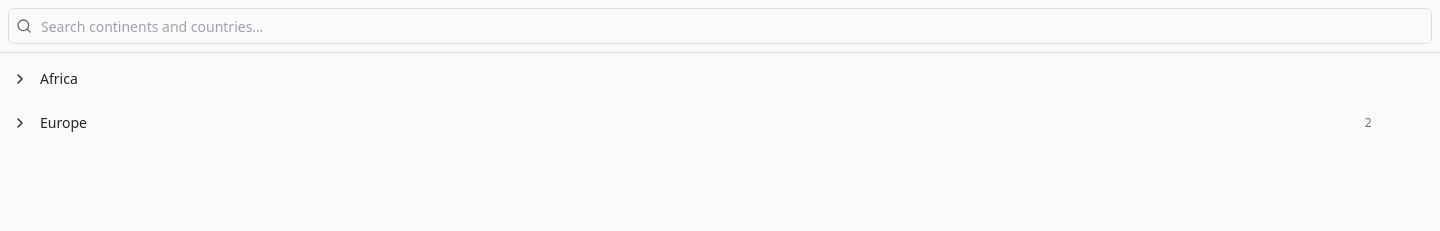
<CatalogTree /> › collapses children by default; expand reveals countries
Expected: the list item "romania" is not shown
Click the 2nd button named "expand".
click(20, 123)  # box [8, 111, 32, 135]
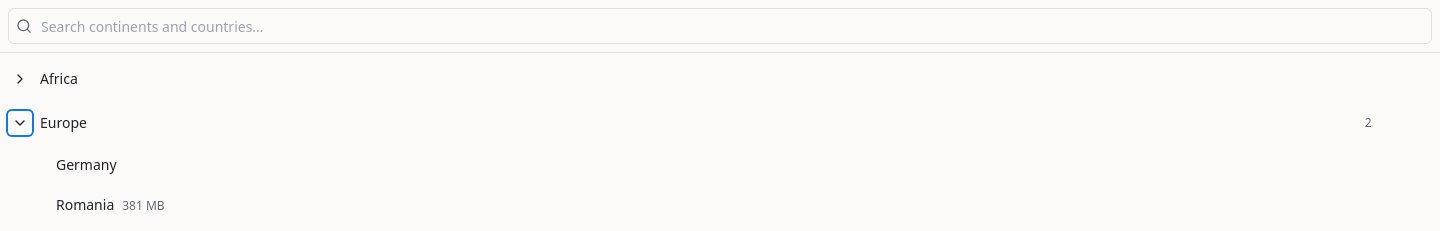
Now the list item "Romania381 MB" is shown, box [56, 195, 165, 214]
